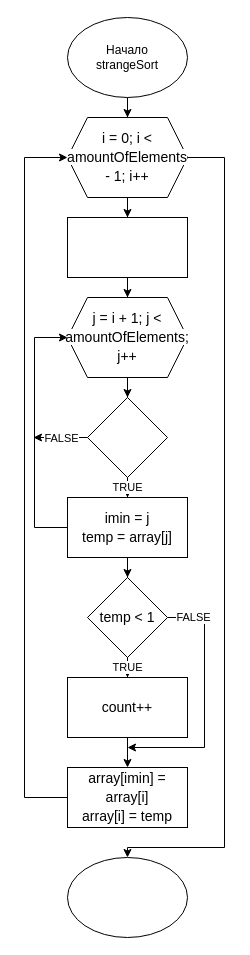
Image size: 250x955. Some labels were removed from this diagram. Each missing label, with the centre of its shape:
array[j] < 1: [127,437]
temp = array[i] imin = i: [127,247]
Конец: [127,897]
